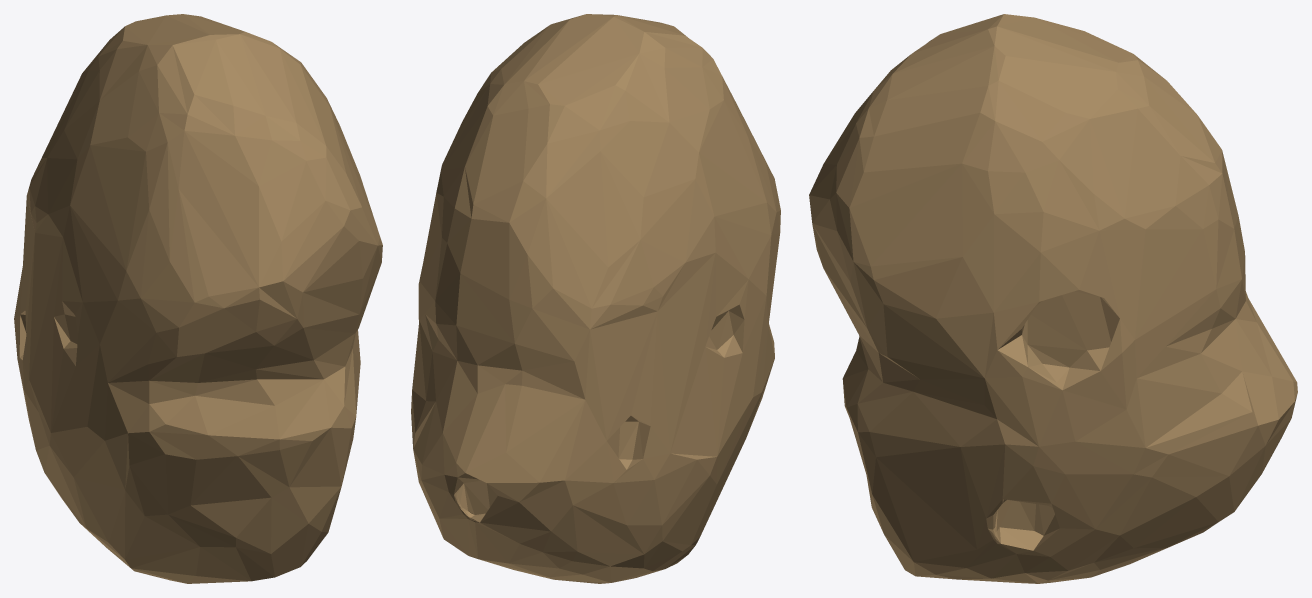
Rendered from astroid 1 fin.fbx.
3 views of the same model, side by side, from view 1: azimuth 30°, elevation 25°; view 2: azimuth 150°, elevation 25°; view 3: azimuth 270°, elevation 25° (orthographic). The views are drawn at different scales.
Visible parts, largest first — view 1: astroid_dec_1:Group63124; view 2: astroid_dec_1:Group63124; view 3: astroid_dec_1:Group63124.
Part boxes in pixels (x1,y1,x2,y2): astroid_dec_1:Group63124: [14, 14, 382, 583]; astroid_dec_1:Group63124: [411, 14, 780, 583]; astroid_dec_1:Group63124: [809, 14, 1297, 583].
Bounding box in the file's own units: 12.21 × 22.3 × 17.87.
